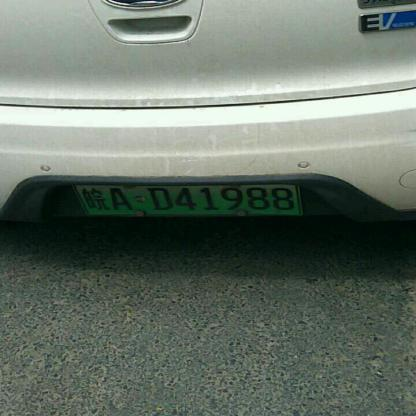lp: (74, 184, 300, 214)
